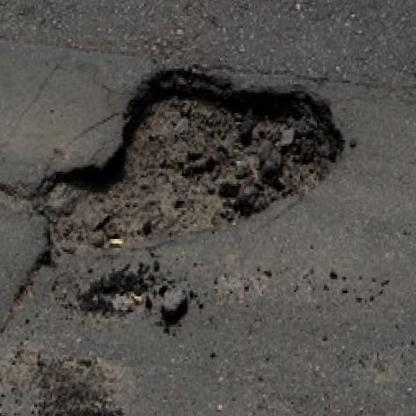pothole: (38, 65, 347, 265)
